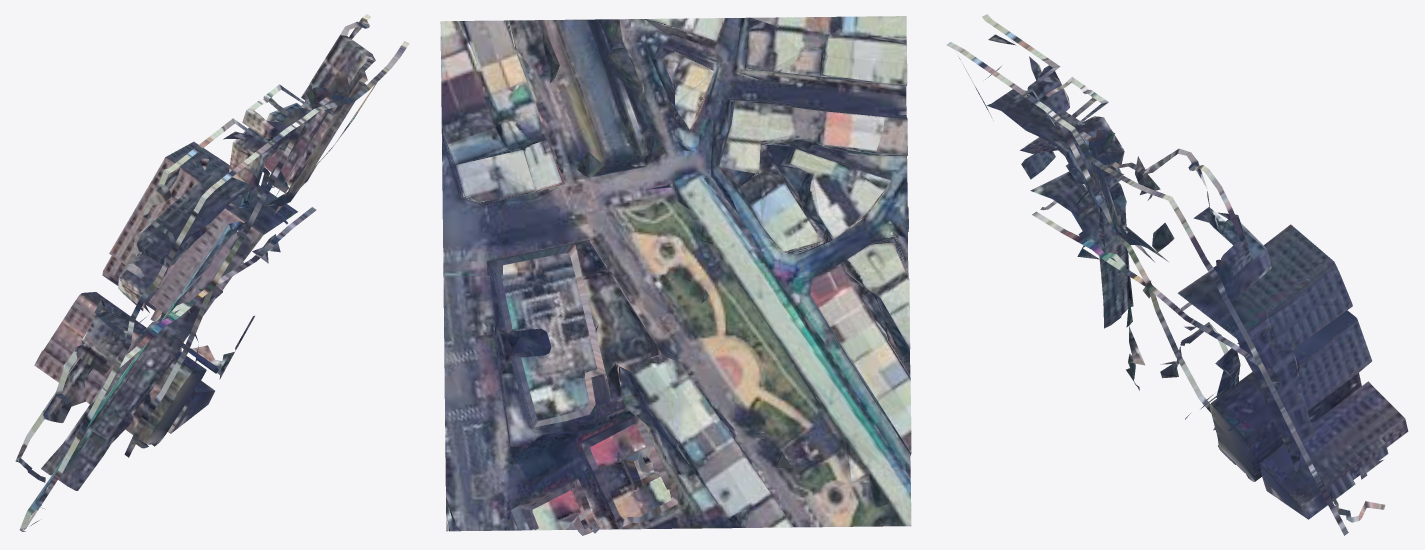
3 renders of one model, left to right at view 1: azimuth 30°, elevation 25°; view 2: azimuth 150°, elevation 25°; view 3: azimuth 270°, elevation 25°, orthographic. The views are drawn at different scales.
Bounding box in the file's own units: 157 × 146 × 151.
1 material, 1 textured.
